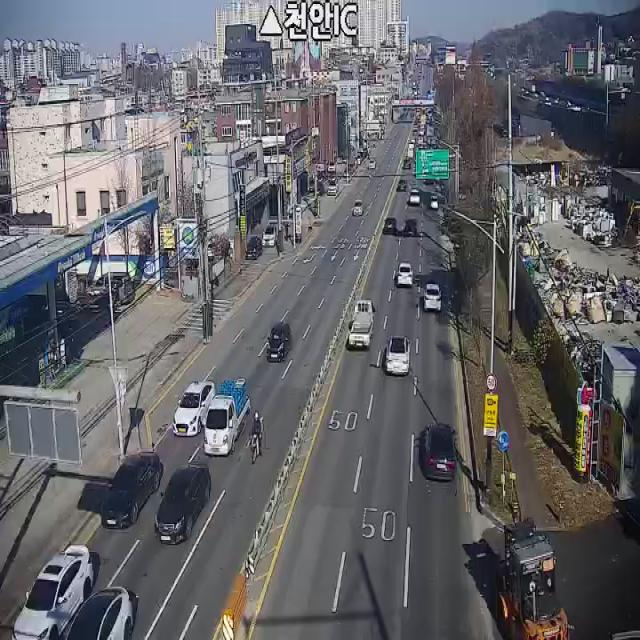Car: (12, 544, 93, 640), (101, 450, 162, 528), (154, 463, 210, 545), (66, 586, 137, 640), (173, 381, 216, 436), (424, 424, 456, 480), (90, 274, 132, 306), (386, 335, 412, 376), (267, 322, 292, 360), (424, 284, 442, 312), (397, 262, 414, 287), (245, 237, 262, 260), (262, 224, 279, 246), (404, 218, 418, 237), (409, 187, 421, 205), (328, 177, 339, 196), (385, 217, 397, 233), (354, 199, 364, 216), (314, 160, 327, 173), (335, 154, 344, 167), (430, 195, 438, 209), (398, 180, 408, 191), (328, 162, 336, 174)
Motorcycle: (250, 407, 266, 458)
Truck: (204, 378, 251, 456), (349, 299, 376, 349)
